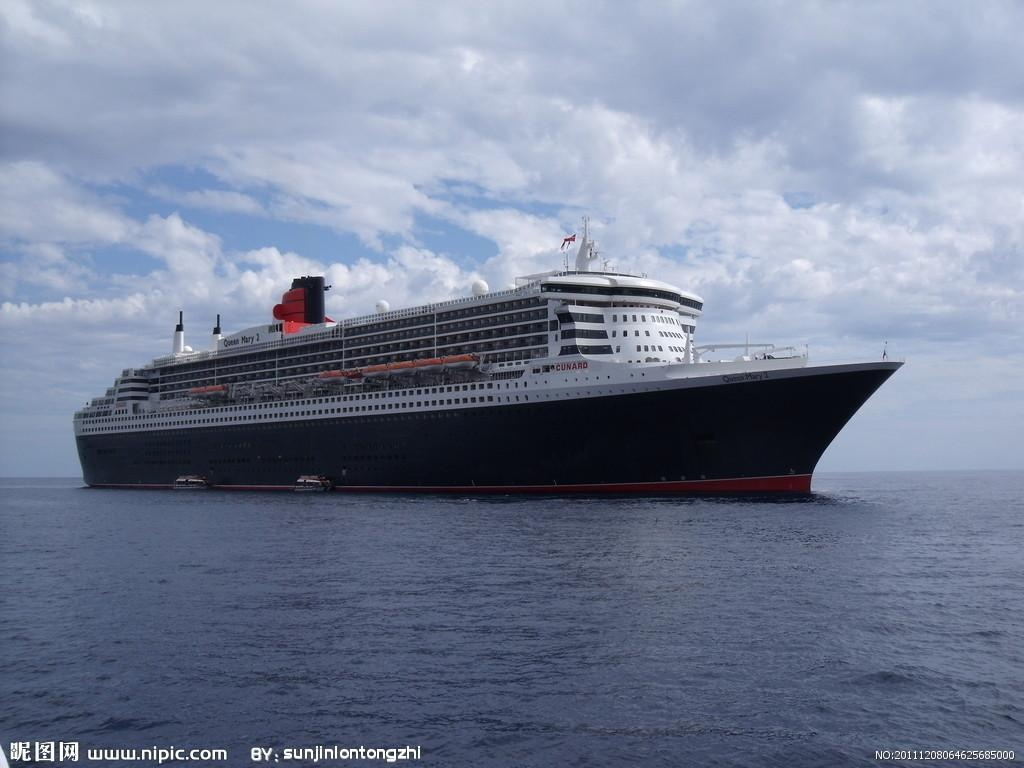youlun: (68, 231, 917, 492)
